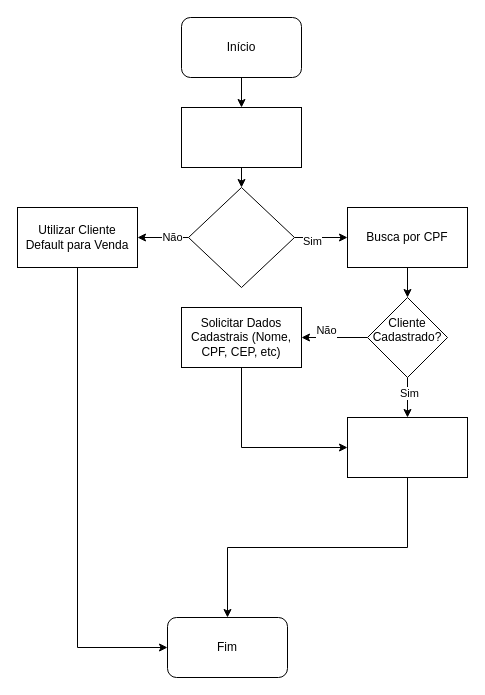
This 485x695 diagram has some shape labels left out. The shapes that lost their labels are listed below. From the top down, each one's centre as x and y in pixels, then its label:
the point at 241,137: Solicitar Identificação do Cliente
the point at 241,237: Cliente quer se Identificar?
the point at 407,447: Utilizar Cadastro do Cliente para a Venda
